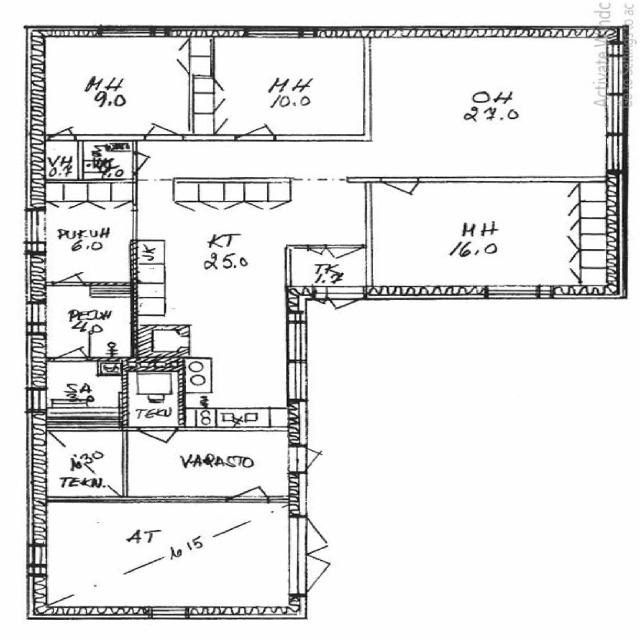door: (288, 516, 362, 556), (288, 557, 362, 596), (226, 467, 268, 502), (327, 286, 362, 326), (287, 447, 343, 472), (236, 106, 274, 141), (145, 107, 183, 141), (138, 426, 176, 458), (381, 177, 418, 209), (326, 244, 362, 274), (54, 333, 87, 361), (53, 260, 84, 286), (132, 153, 166, 173), (49, 117, 74, 141), (308, 245, 326, 261), (314, 286, 326, 308)
